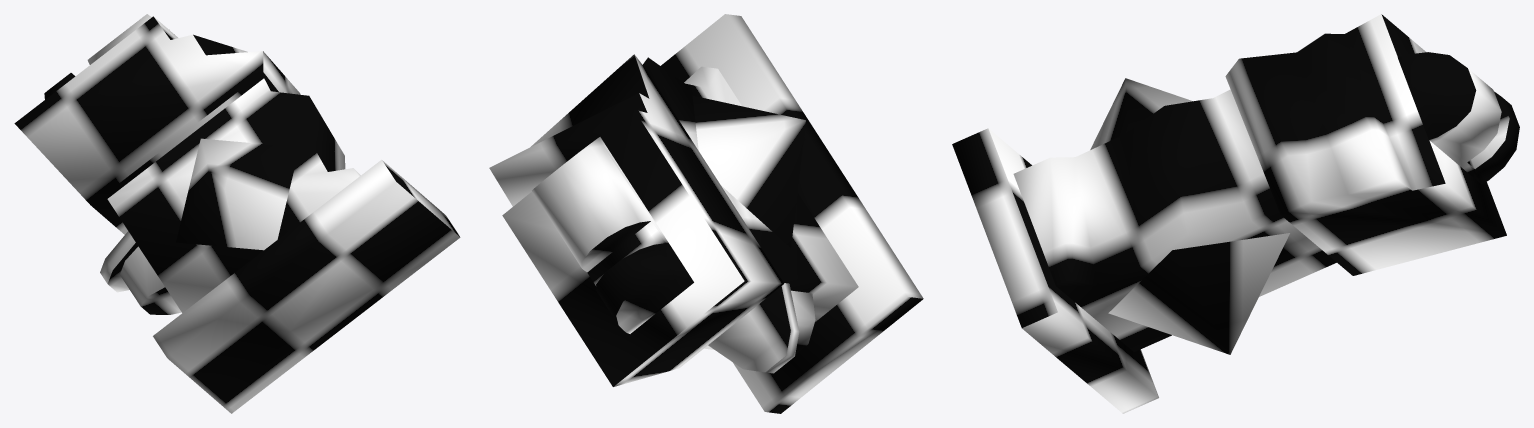
The model's file is initqu38.dae.
3 views of the same model, side by side, from view 1: azimuth 30°, elevation 25°; view 2: azimuth 150°, elevation 25°; view 3: azimuth 270°, elevation 25° (orthographic). The views are drawn at different scales.
Visible parts, largest first — view 1: item; view 2: item; view 3: item.
Boxes of the visible parts, x1,y1,x2,y2 form: item: [14, 14, 460, 413]; item: [489, 14, 923, 413]; item: [952, 14, 1519, 413].
Size of the model in its own units: 1.21 by 1.63 by 1.31.
Materials: 1 (1 with a texture image).
